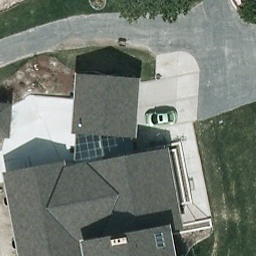car: (144, 111, 179, 126)
